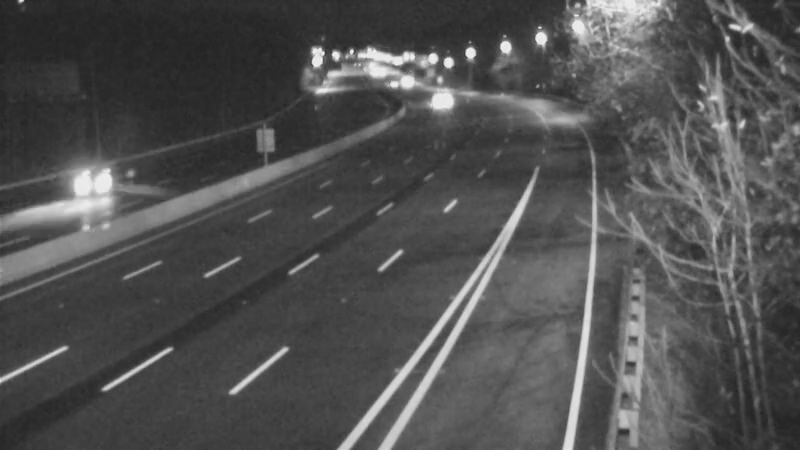vehicle: (48, 144, 128, 224), (379, 56, 429, 106), (364, 54, 414, 104), (411, 73, 461, 123)
